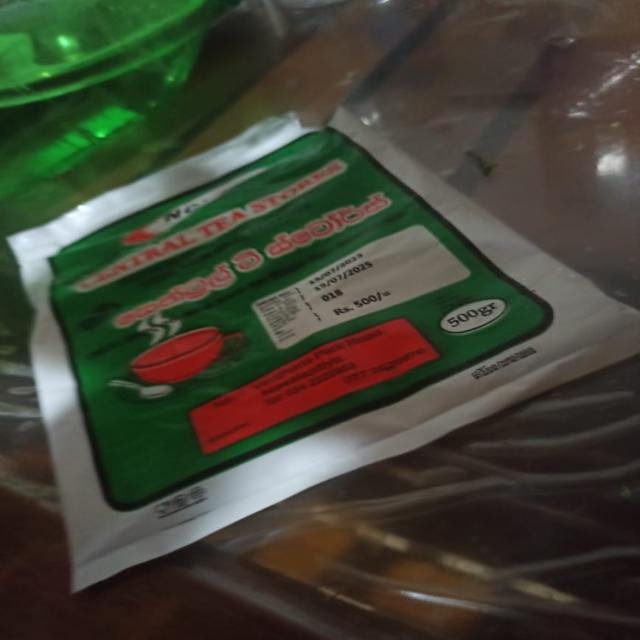Central Tea: (0, 175, 620, 537)
